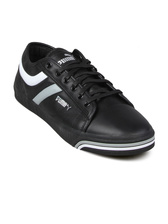shoes: (12, 37, 158, 161)
